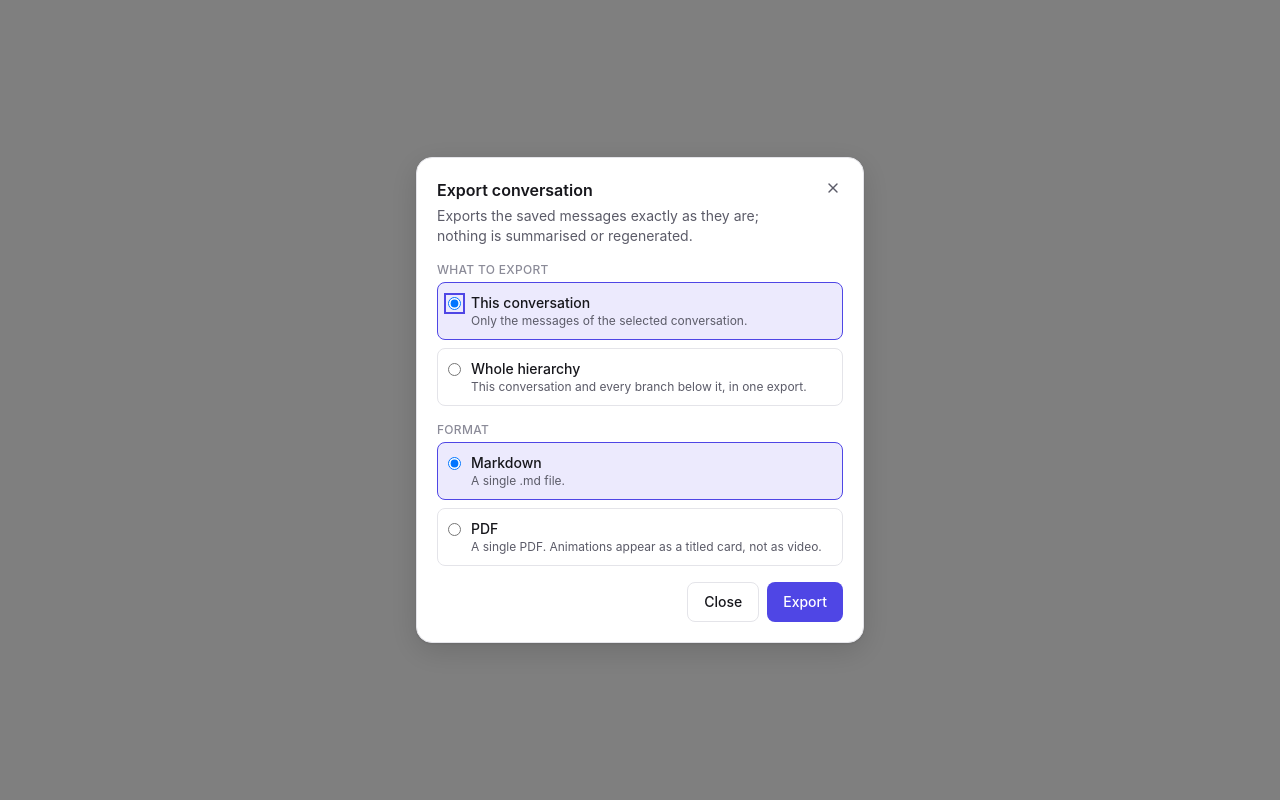
Scenario: Export dialog › reports a failed export and lets the user try again
Click the button "Export" at (805,602), box [767,582,843,622]
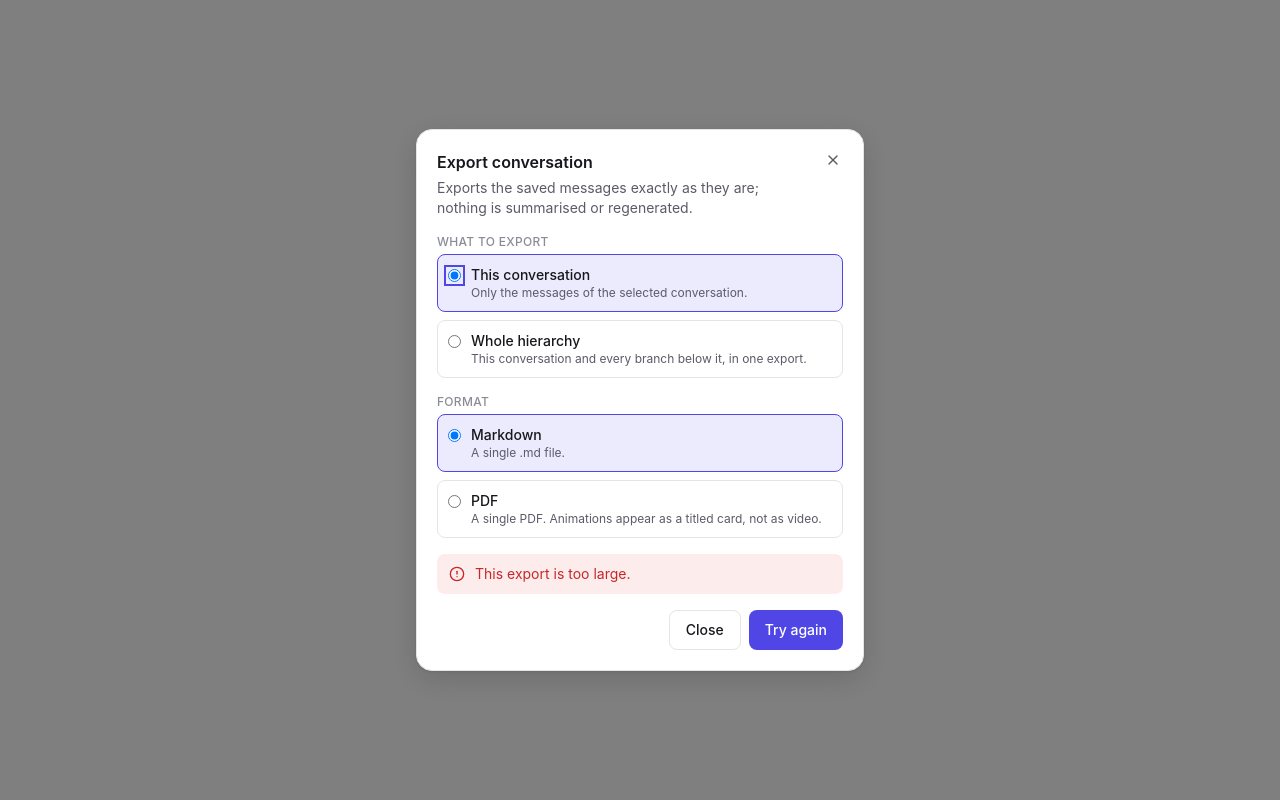
Expected: the message shows "too large", [475,565,630,582]
Expected: the button "Try again" is shown, [749,610,843,650]
